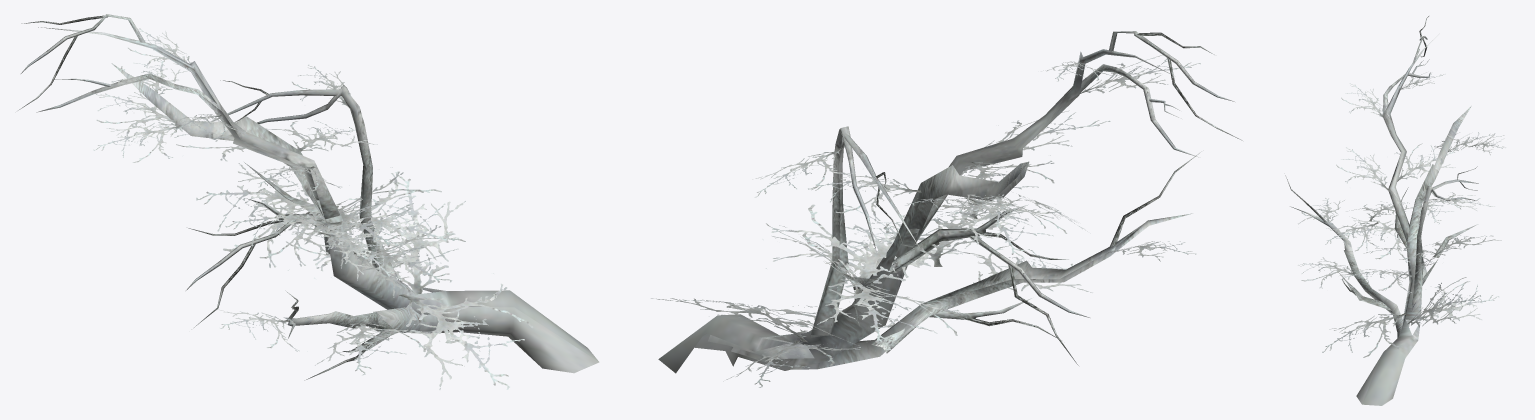
The model's file is S_Tree_White001_1.FBX.
3 views of the same model, side by side, from view 1: azimuth 30°, elevation 25°; view 2: azimuth 150°, elevation 25°; view 3: azimuth 270°, elevation 25° (orthographic). The views are drawn at different scales.
Parts seen in each view (by area): view 1: S_Tree_White001_1; view 2: S_Tree_White001_1; view 3: S_Tree_White001_1.
Boxes of the visible parts, bbox=[...] form: S_Tree_White001_1: bbox=[18, 14, 599, 389]; S_Tree_White001_1: bbox=[651, 31, 1242, 387]; S_Tree_White001_1: bbox=[1285, 16, 1505, 405].
Bounding box in the file's own units: 959 × 652 × 716.
